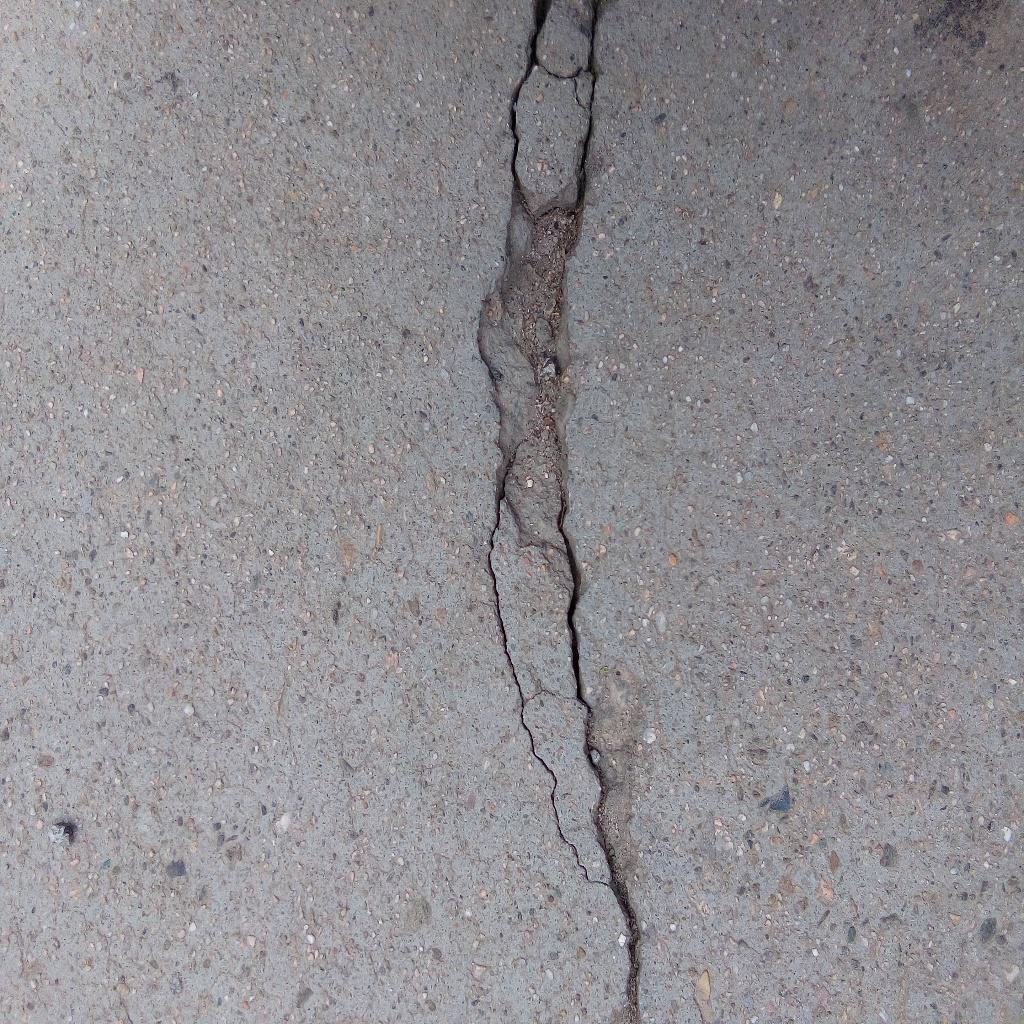Crack: (487, 458, 614, 891), (554, 489, 643, 1024), (508, 1, 555, 218), (572, 1, 599, 211), (533, 56, 586, 82)
Spalling: (474, 217, 584, 457)
